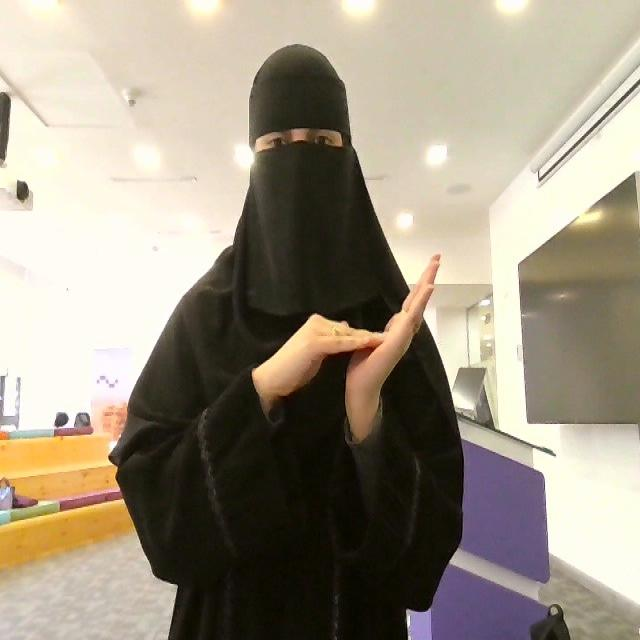complaint: (249, 247, 446, 434)
